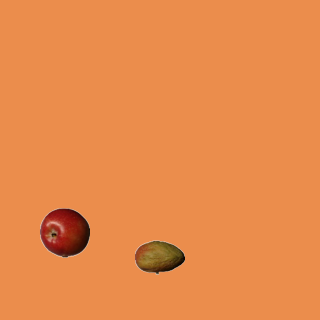Apple Braeburn: (39, 207, 89, 257)
Papaya: (134, 232, 184, 282)
